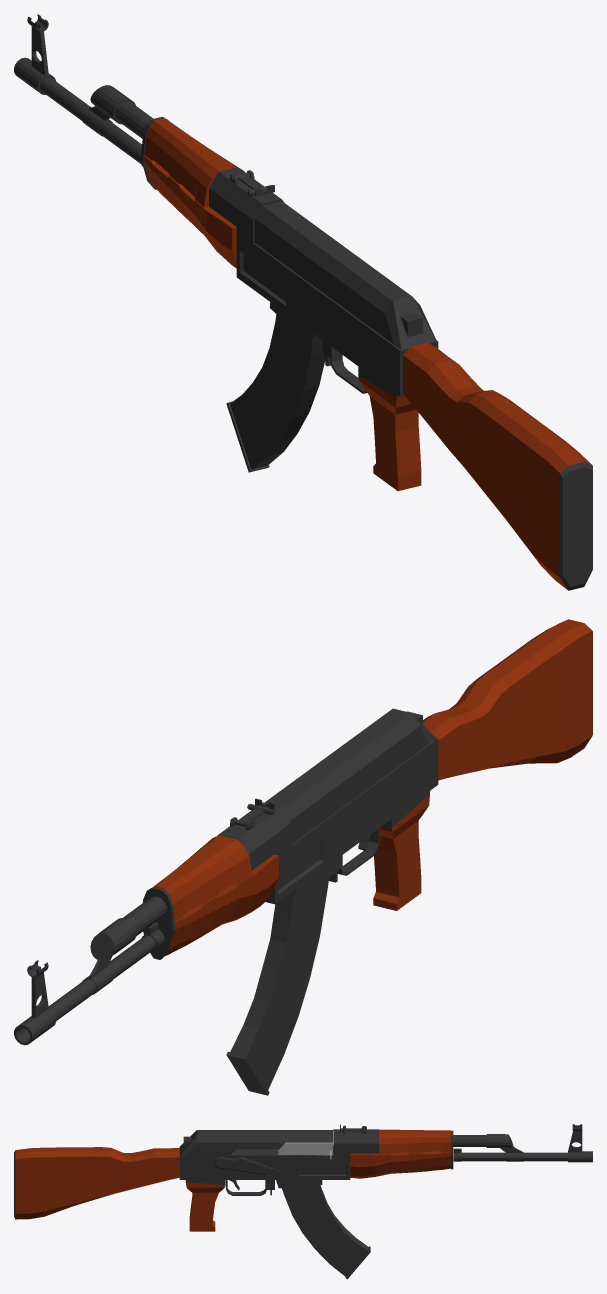
3 views of the same model, one above another, from view 1: azimuth 30°, elevation 25°; view 2: azimuth 150°, elevation 25°; view 3: azimuth 270°, elevation 25° (orthographic). The views are drawn at different scales.
Parts seen in each view (by area): view 1: Cubo.009, Cubo.003, Cilindro.001; view 2: Cubo.009, Cubo.003, Cilindro.001, Cubo.006; view 3: Cubo.009, Cubo.003, Cilindro.001, Cubo.001, Cubo.002.
Part boxes in pixels (x1,y1,x2,y2): Cubo.009: [144, 118, 592, 590]; Cubo.003: [226, 314, 325, 472]; Cilindro.001: [14, 14, 153, 166]; Cubo.009: [154, 619, 592, 956]; Cubo.003: [226, 877, 329, 1095]; Cilindro.001: [14, 896, 166, 1045]; Cubo.006: [143, 886, 174, 959]; Cubo.009: [14, 1126, 450, 1231]; Cubo.003: [282, 1185, 370, 1279]; Cilindro.001: [453, 1124, 592, 1162]; Cubo.001: [214, 1156, 281, 1176]; Cubo.002: [278, 1142, 332, 1159].
Size of the model in its own units: 97.28 by 441 by 1528.
